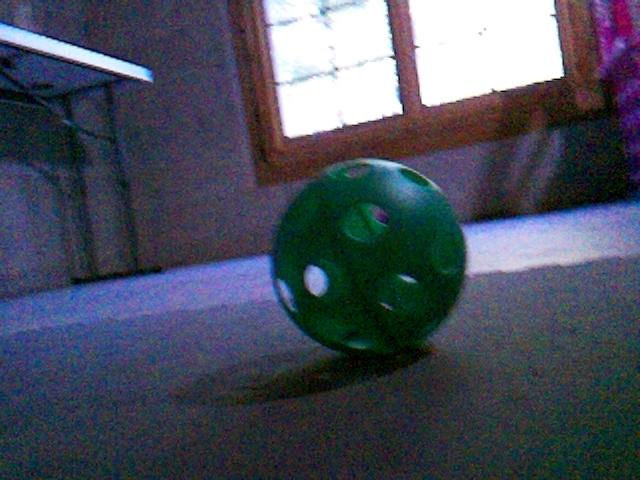Green: (273, 157, 466, 356)
